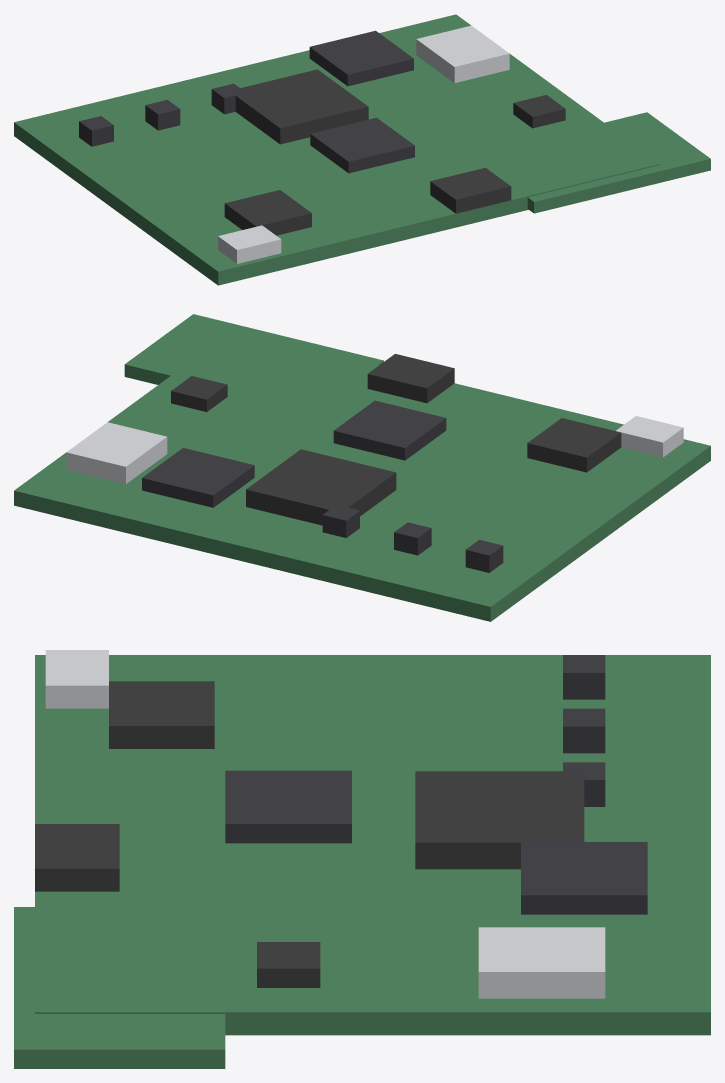
The model's file is mainboard.gltf.
3 renders of one model, top to bottom at view 1: azimuth 30°, elevation 25°; view 2: azimuth 150°, elevation 25°; view 3: azimuth 270°, elevation 25°, orthographic. The views are drawn at different scales.
Parts seen in each view (by area): view 1: mainboard; view 2: mainboard; view 3: mainboard.
Boxes of the visible parts, box(x1,y1,x2,y2) form: mainboard: box(14, 14, 710, 285); mainboard: box(14, 314, 710, 621); mainboard: box(14, 650, 710, 1068).
Size of the model in its own units: 0.22 by 0.0155 by 0.165.
